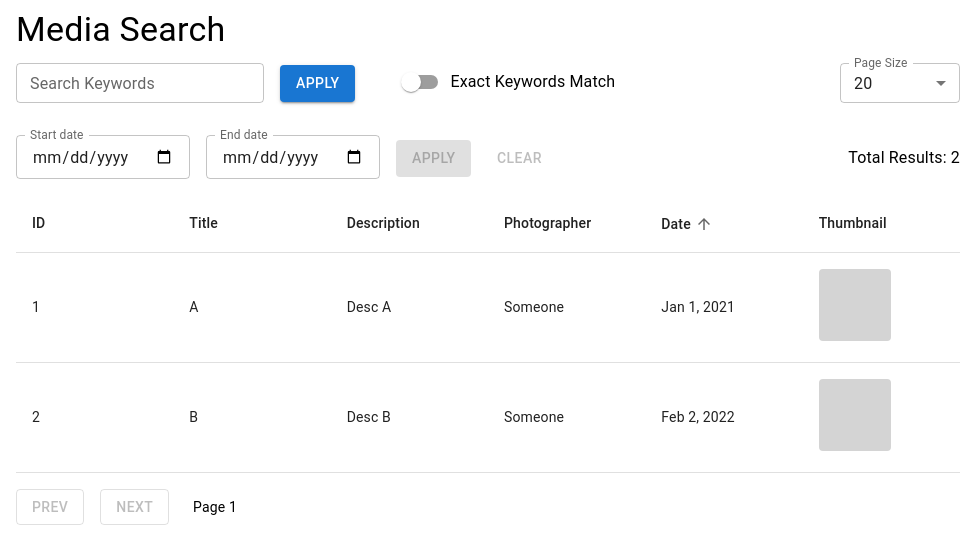
Scenario: <MediaSearchPage /> › performs a new search when the SearchBar submits
This screenshot has width=977, height=542.
Check: the heading "Total Results: 2" is shown, box left=848, top=144, right=960, bottom=172
Type "new term" into the field labelled "Search Keywords" at (140, 83), box left=16, top=63, right=264, bottom=103
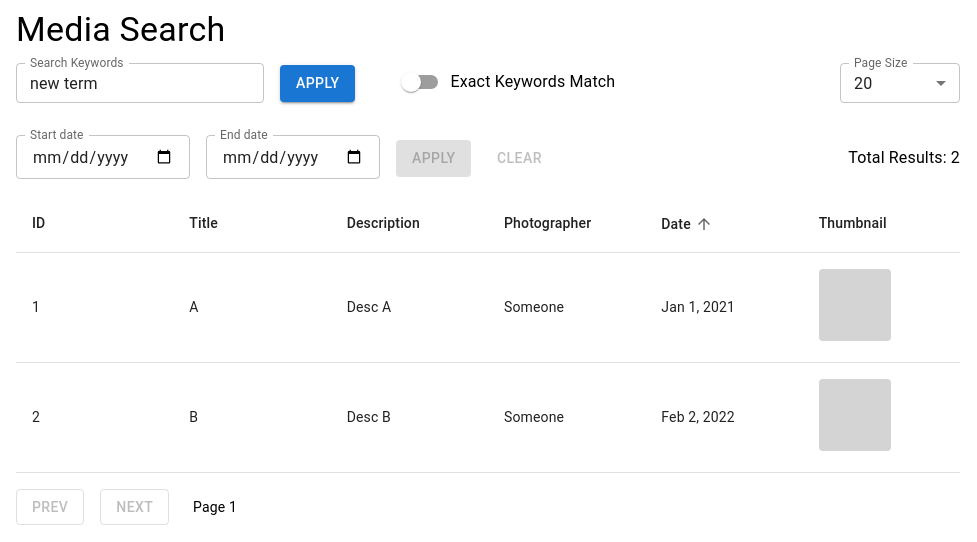
Submit the form labelled "Search Keywords Apply", box left=16, top=63, right=355, bottom=103
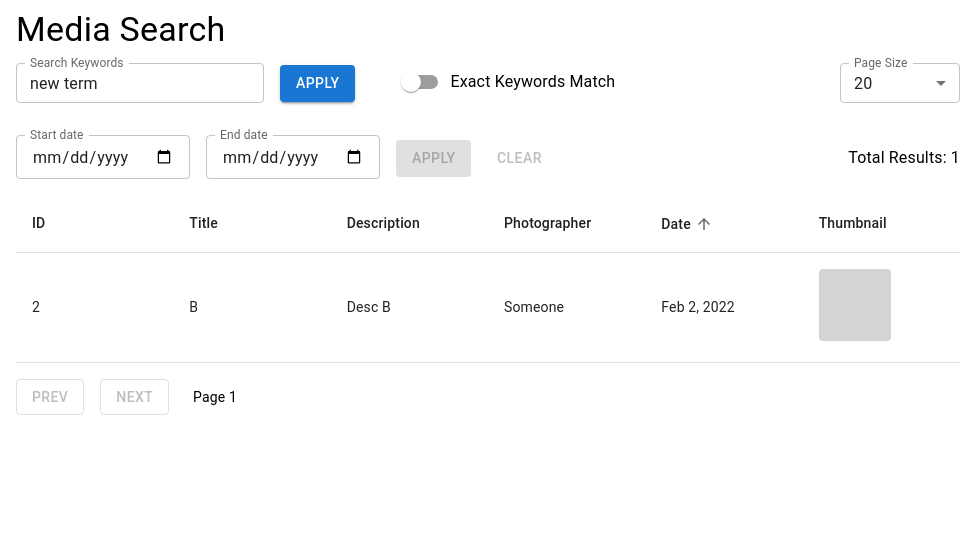
Check: the heading "Total Results: 1" is shown, box left=848, top=144, right=960, bottom=172
